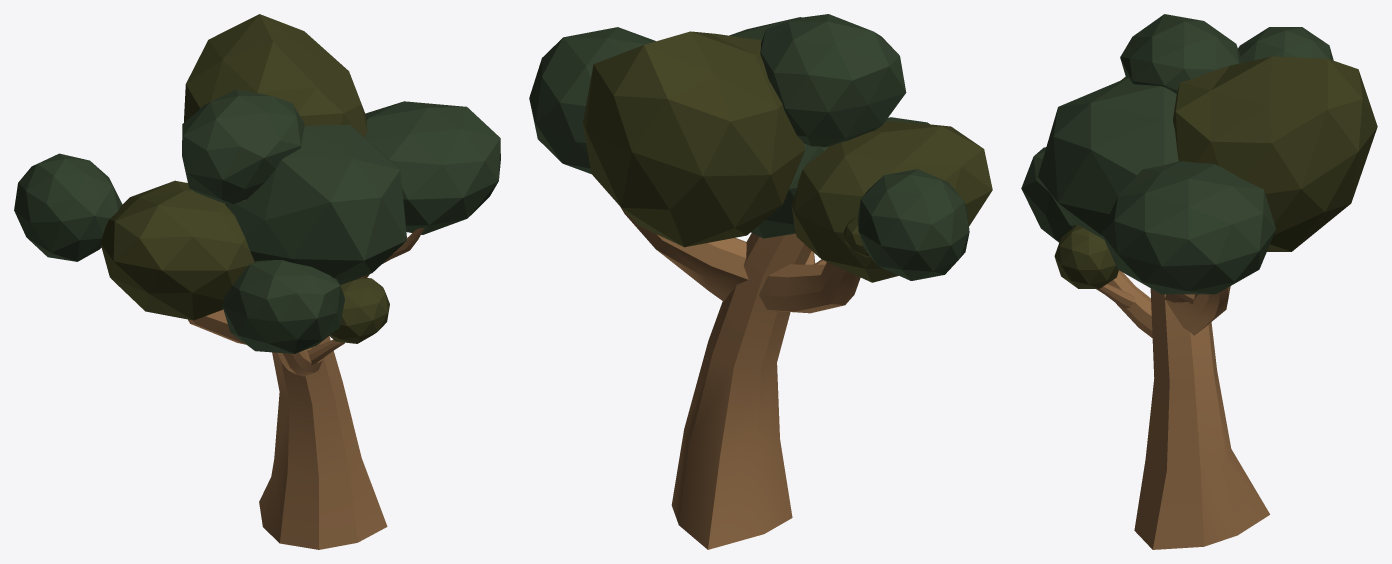
File: drzewo(1).fbx
The picture shows the model from 3 angles, left to right: view 1: azimuth 30°, elevation 25°; view 2: azimuth 150°, elevation 25°; view 3: azimuth 270°, elevation 25°; orthographic projection. The views are drawn at different scales.
Visible parts, largest first — view 1: Plane.010; view 2: Plane.010; view 3: Plane.010.
Boxes of the visible parts, x1,y1,x2,y2 form: Plane.010: [14, 14, 500, 549]; Plane.010: [529, 14, 992, 549]; Plane.010: [1021, 14, 1377, 549].
Size of the model in its own units: 616 by 853 by 897.
